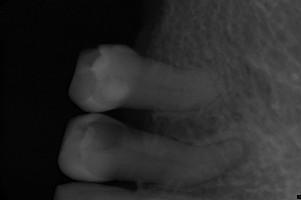Furcation Involvement: (218, 138, 253, 172)
